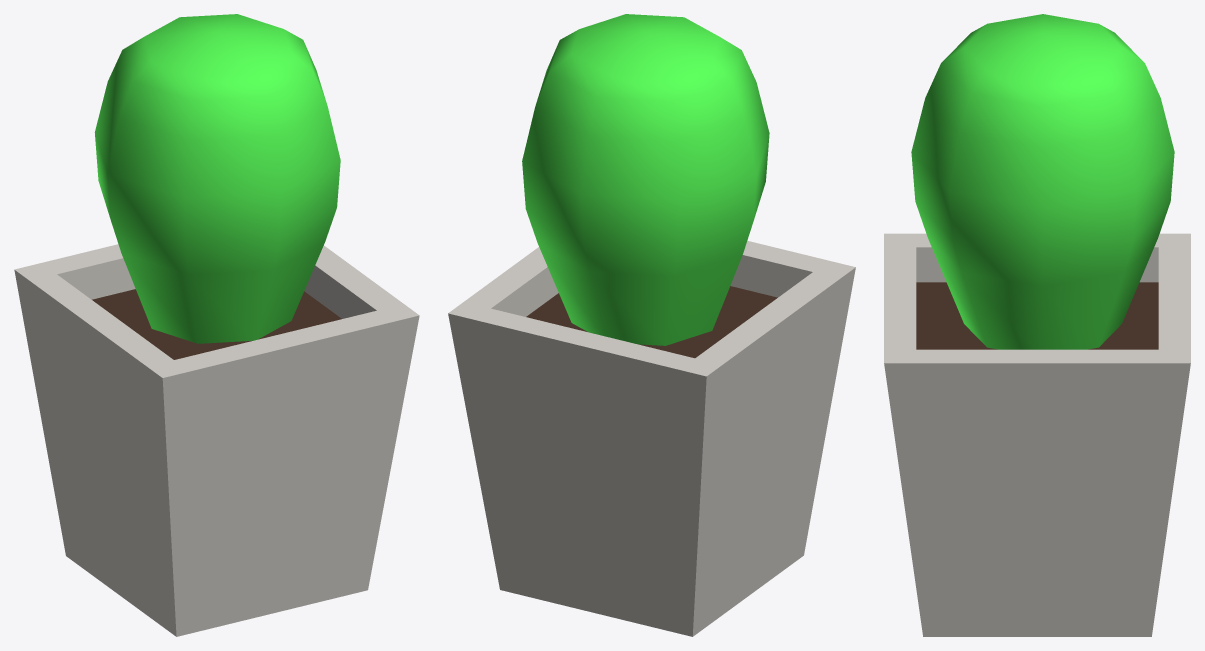
The model's file is plant_table.fbx.
3 renders of one model, left to right at view 1: azimuth 30°, elevation 25°; view 2: azimuth 150°, elevation 25°; view 3: azimuth 270°, elevation 25°, orthographic. The views are drawn at different scales.
Visible parts, largest first — view 1: plant_pot; view 2: plant_pot; view 3: plant_pot.
Boxes of the visible parts, bbox=[...] form: plant_pot: bbox=[14, 14, 419, 636]; plant_pot: bbox=[448, 14, 855, 636]; plant_pot: bbox=[884, 14, 1190, 636].
Size of the model in its own units: 0.25 by 0.5 by 0.25.
